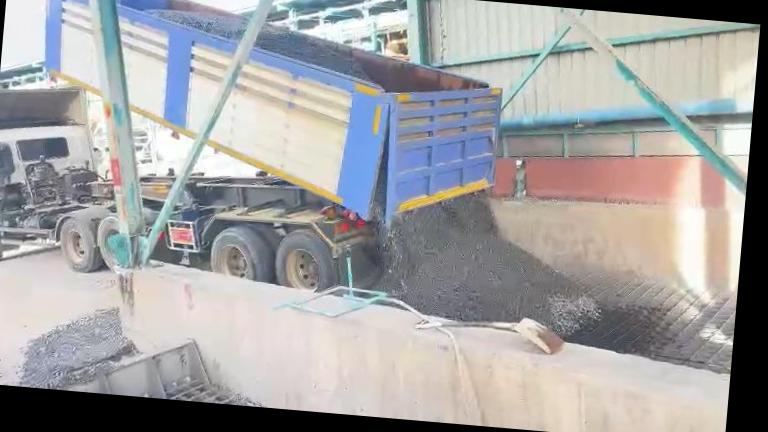gravel: (378, 194, 600, 336), (19, 309, 136, 389), (255, 24, 372, 81), (146, 9, 247, 39)
